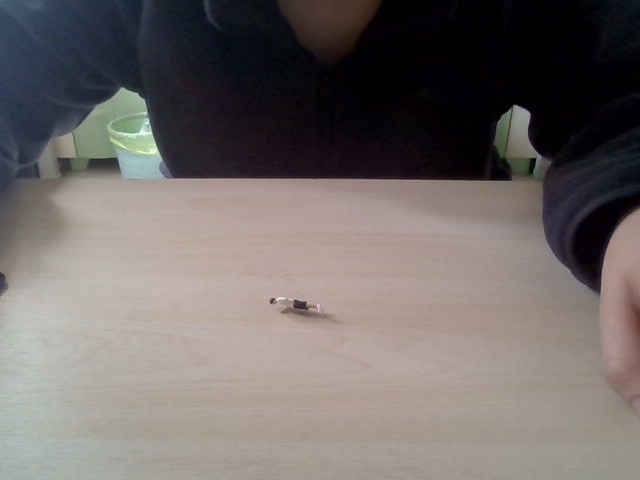fall: (267, 294, 325, 318)
